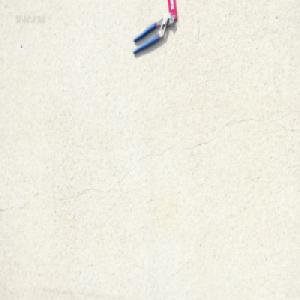Label: (166, 0, 180, 24)
Pliers: (132, 11, 174, 58)
